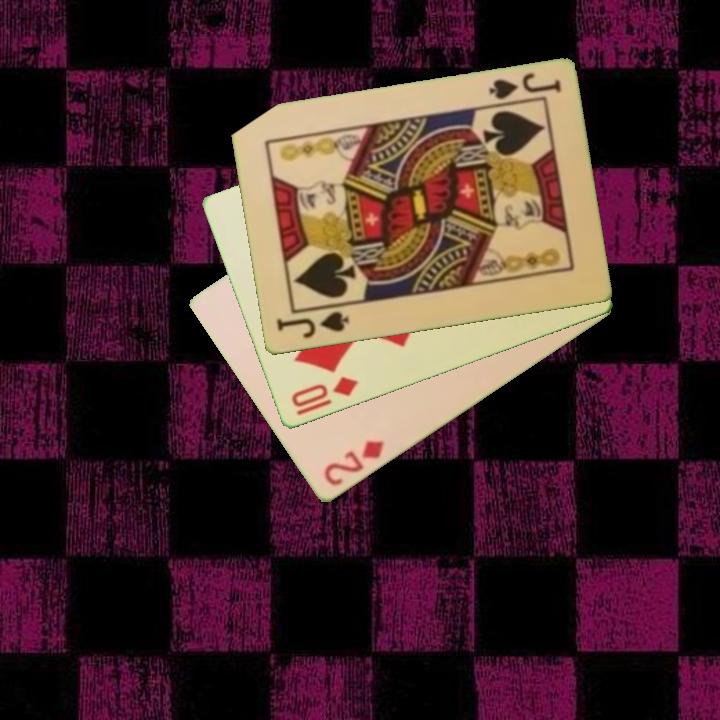10d: (287, 373, 362, 419)
2d: (320, 437, 387, 490)
Js: (272, 308, 352, 342), (484, 70, 564, 103)
